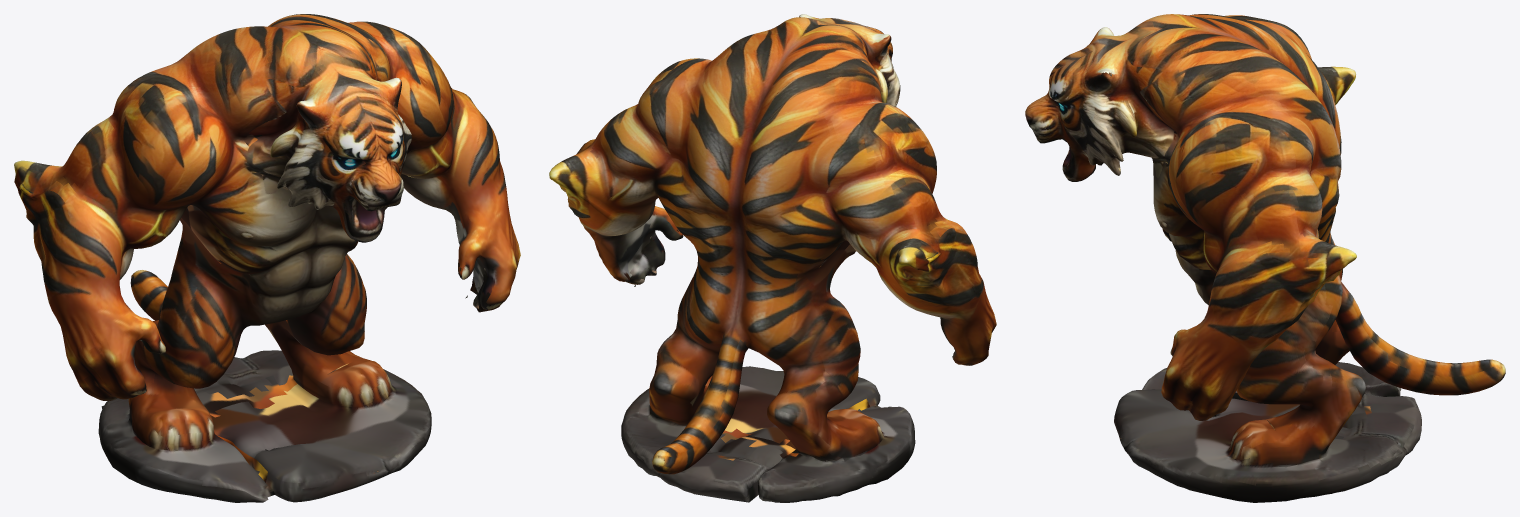
Rendered from source.glb.
3 views of the same model, side by side, from view 1: azimuth 30°, elevation 25°; view 2: azimuth 150°, elevation 25°; view 3: azimuth 270°, elevation 25° (orthographic). The views are drawn at different scales.
Visible parts, largest first — view 1: tmpjgyf7iky; view 2: tmpjgyf7iky; view 3: tmpjgyf7iky.
Part boxes in pixels (<box>): tmpjgyf7iky: <box>14,14,520,502</box>; tmpjgyf7iky: <box>549,14,996,502</box>; tmpjgyf7iky: <box>1025,14,1505,502</box>.
Size of the model in its own units: 0.8608 by 0.8 by 0.8417.
1 material, 1 textured.
